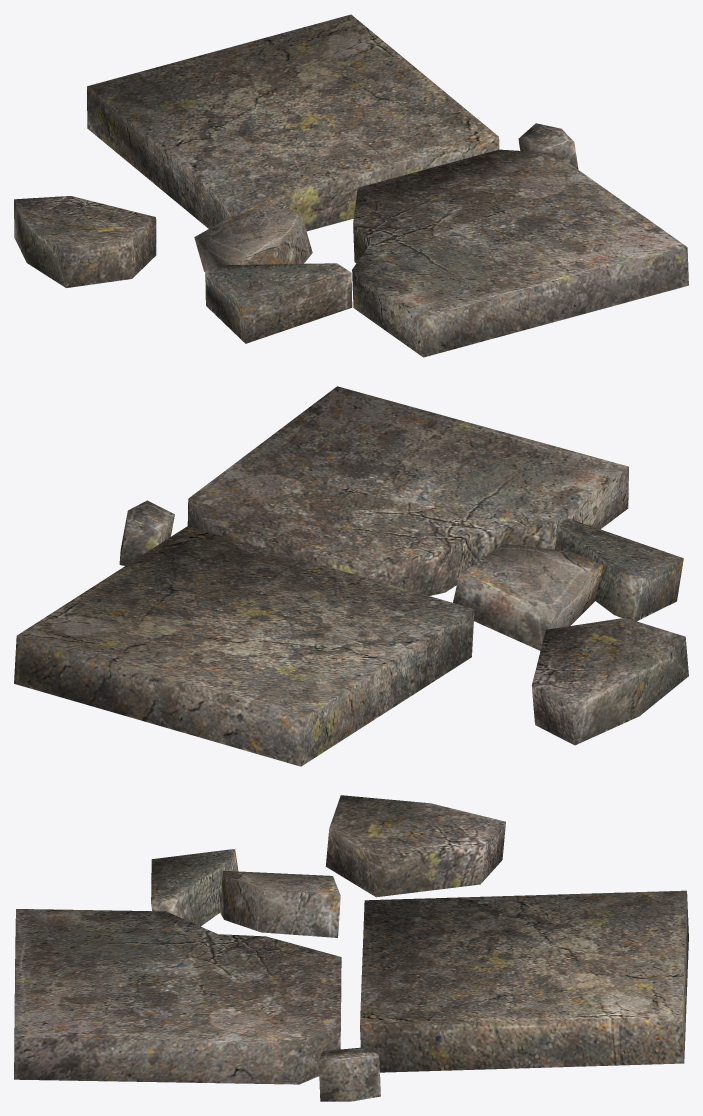
Rendered from brick2.fbx.
3 renders of one model, top to bottom at view 1: azimuth 30°, elevation 25°; view 2: azimuth 150°, elevation 25°; view 3: azimuth 270°, elevation 25°, orthographic. The views are drawn at different scales.
Parts seen in each view (by area): view 1: polySurface106; view 2: polySurface106; view 3: polySurface106.
Part boxes in pixels (bbox=[...]): polySurface106: bbox=[14, 14, 688, 357]; polySurface106: bbox=[14, 386, 688, 766]; polySurface106: bbox=[14, 795, 688, 1101].
Bounding box in the file's own units: 3.6 × 0.4301 × 3.89.
